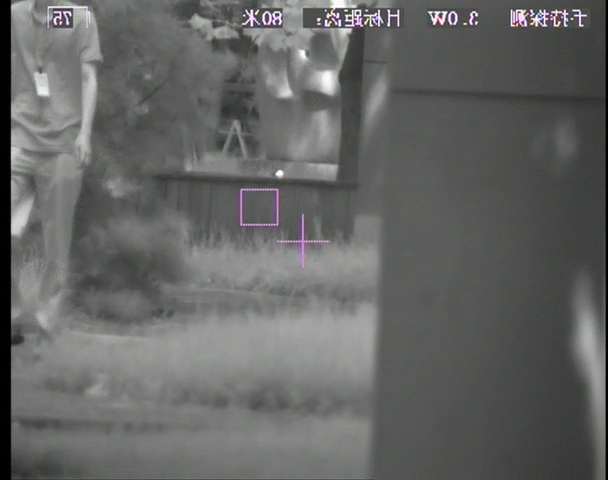my: (275, 168, 285, 179)
